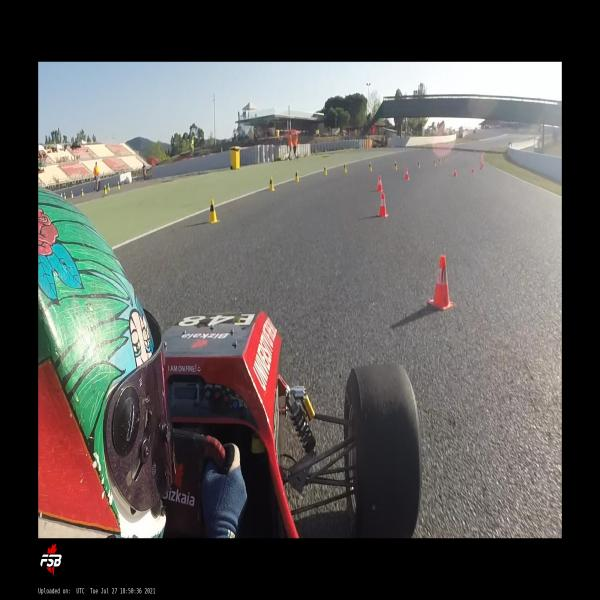orange_cone: (428, 254, 454, 310), (377, 193, 388, 218), (376, 176, 383, 192), (404, 168, 410, 180), (453, 167, 457, 177), (472, 166, 474, 173), (480, 163, 482, 170)
yellow_cone: (209, 198, 220, 223), (268, 175, 275, 191), (294, 169, 299, 183), (323, 165, 327, 176), (117, 181, 121, 189), (344, 163, 347, 173), (369, 162, 372, 172), (394, 161, 397, 171), (104, 184, 107, 194), (417, 160, 420, 168), (433, 159, 436, 166), (81, 188, 84, 195), (107, 184, 110, 191), (438, 158, 441, 164), (71, 191, 73, 198), (64, 192, 66, 198)
